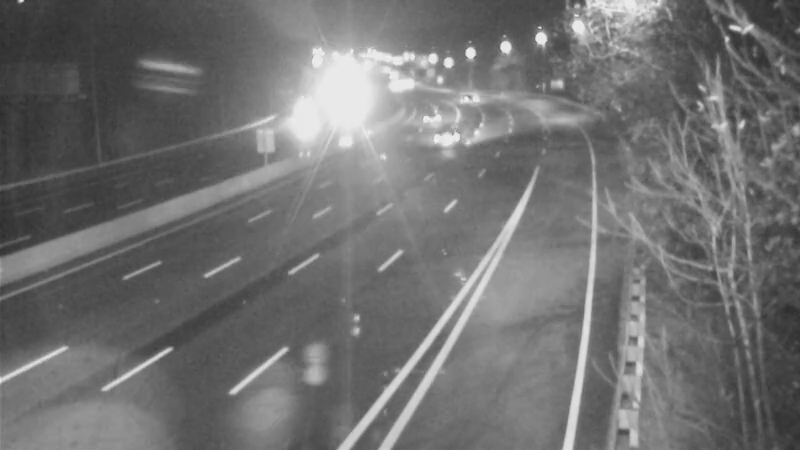vehicle: (371, 61, 421, 111), (441, 71, 491, 121), (403, 92, 453, 142), (418, 115, 468, 165)
